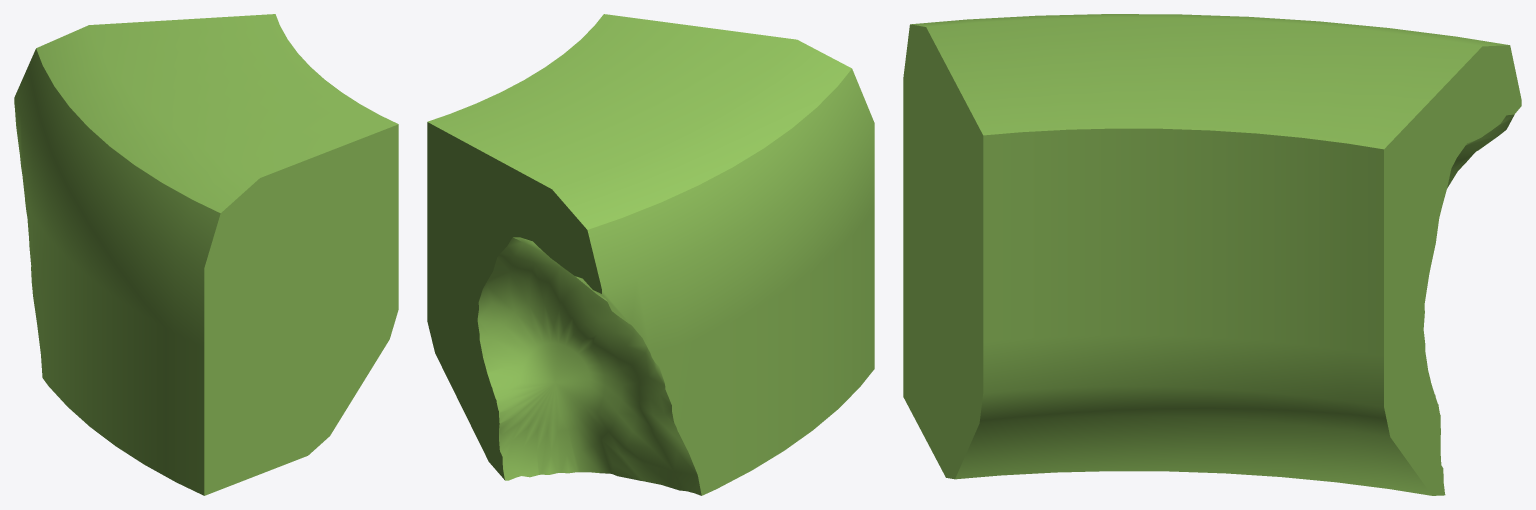
The model's file is CircleBlock10.obj.
3 renders of one model, left to right at view 1: azimuth 30°, elevation 25°; view 2: azimuth 150°, elevation 25°; view 3: azimuth 270°, elevation 25°, orthographic. The views are drawn at different scales.
Visible parts, largest first — view 1: CircleBlock10; view 2: CircleBlock10; view 3: CircleBlock10.
Part boxes in pixels (x1=…): CircleBlock10: x1=14, y1=14, x2=398, y2=495; CircleBlock10: x1=427, y1=14, x2=874, y2=495; CircleBlock10: x1=903, y1=14, x2=1521, y2=495.
Bounding box in the file's own units: 6.99 × 7.63 × 10.36.
